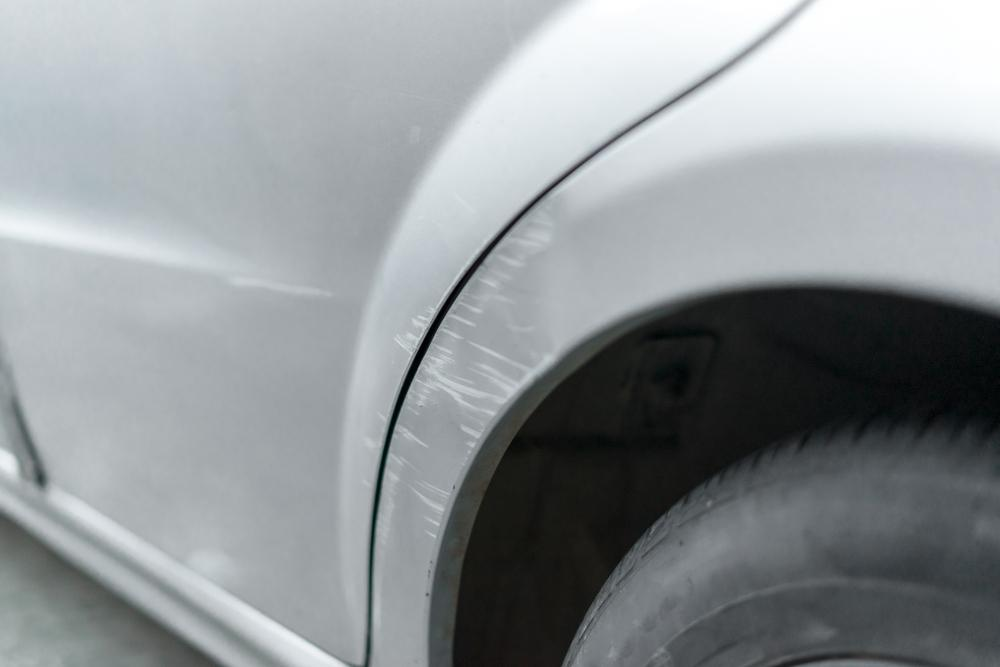scratch: (386, 208, 564, 532)
